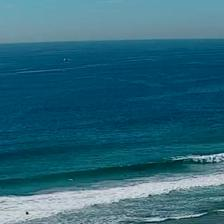surfer: (82, 188, 90, 191), (137, 172, 145, 175), (68, 177, 75, 180), (126, 162, 132, 164), (26, 212, 29, 215), (94, 180, 98, 182), (124, 175, 128, 177), (2, 186, 4, 189), (38, 174, 40, 177)
